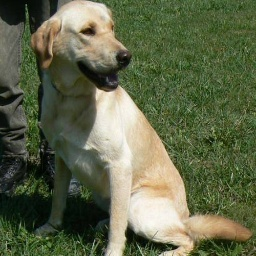dog: (25, 3, 239, 254)
